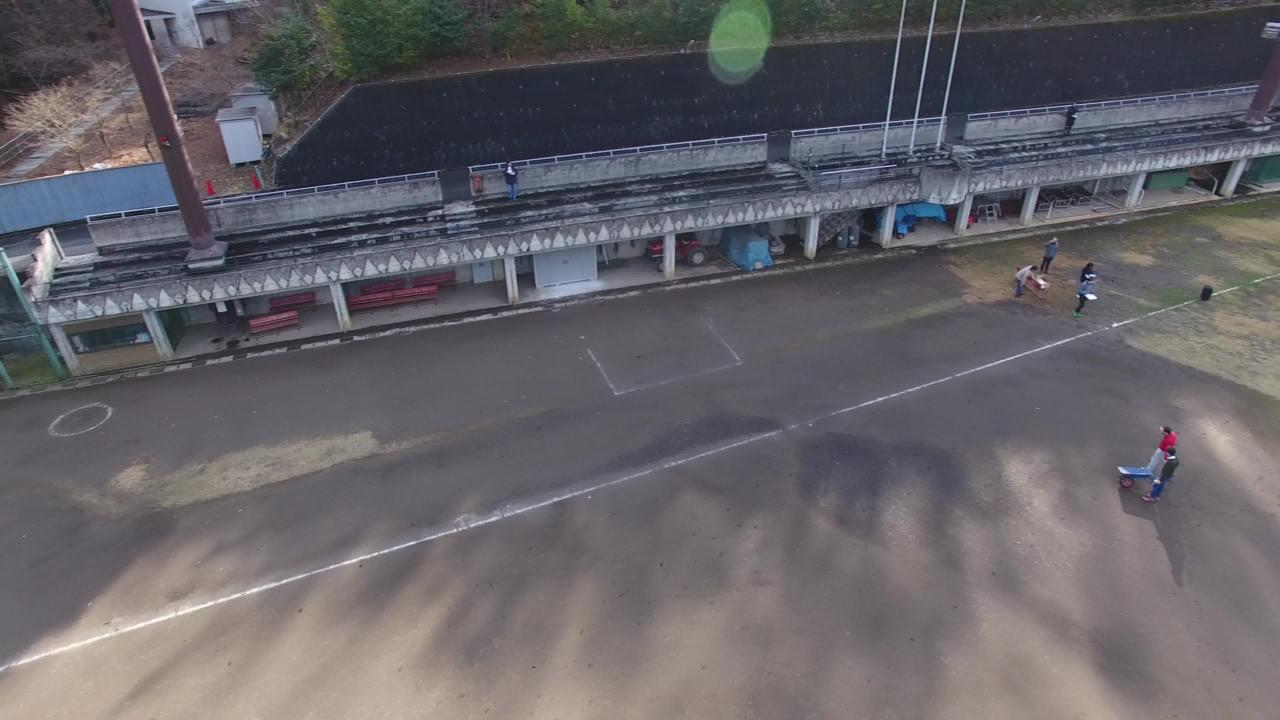person: (1146, 446, 1183, 511), (494, 156, 527, 204), (1074, 273, 1107, 321), (1036, 229, 1069, 277), (1006, 257, 1039, 305), (1056, 93, 1089, 141), (1069, 248, 1102, 296), (1145, 415, 1178, 463)
